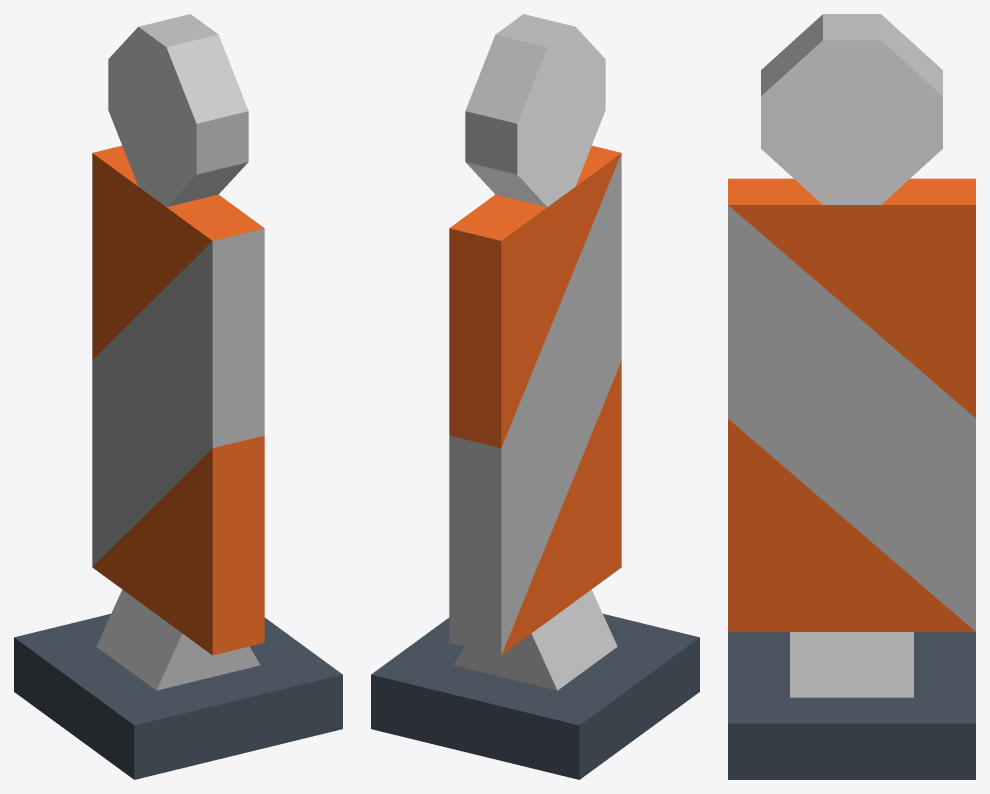
Rendered from SM_Construction_Light.fbx.
3 views of the same model, side by side, from view 1: azimuth 30°, elevation 25°; view 2: azimuth 150°, elevation 25°; view 3: azimuth 270°, elevation 25° (orthographic). The views are drawn at different scales.
Parts seen in each view (by area): view 1: SM_Construction_Light; view 2: SM_Construction_Light; view 3: SM_Construction_Light.
Boxes of the visible parts, x1,y1,x2,y2 form: SM_Construction_Light: [14, 14, 342, 779]; SM_Construction_Light: [371, 14, 699, 779]; SM_Construction_Light: [728, 14, 975, 779].
Size of the model in its own units: 75 by 234 by 75.
